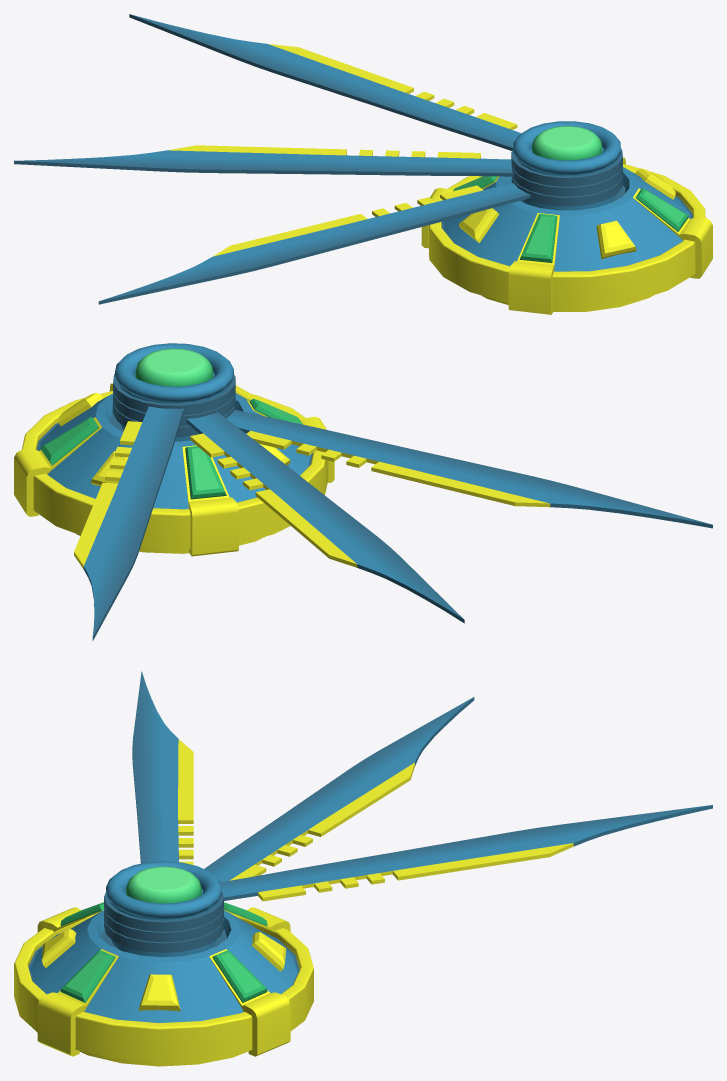
The model's file is islnd2-knife3.fbx.
3 renders of one model, top to bottom at view 1: azimuth 30°, elevation 25°; view 2: azimuth 150°, elevation 25°; view 3: azimuth 270°, elevation 25°, orthographic. The views are drawn at different scales.
Parts seen in each view (by area): view 1: islnd2-knife3, islnd2-knife3.02, islnd2-knife3.03, islnd2-knife3.01; view 2: islnd2-knife3, islnd2-knife3.01, islnd2-knife3.02, islnd2-knife3.03; view 3: islnd2-knife3, islnd2-knife3.03, islnd2-knife3.02, islnd2-knife3.01.
Part boxes in pixels (left/top/right/bottom): islnd2-knife3: left=421, top=121, right=712, bottom=314; islnd2-knife3.02: left=14, top=145, right=622, bottom=196; islnd2-knife3.03: left=129, top=14, right=622, bottom=186; islnd2-knife3.01: left=98, top=176, right=622, bottom=304; islnd2-knife3: left=14, top=343, right=334, bottom=556; islnd2-knife3.01: left=112, top=400, right=712, bottom=528; islnd2-knife3.02: left=113, top=384, right=464, bottom=623; islnd2-knife3.03: left=74, top=374, right=235, bottom=640; islnd2-knife3: left=14, top=861, right=313, bottom=1066; islnd2-knife3.03: left=104, top=805, right=712, bottom=931; islnd2-knife3.02: left=104, top=697, right=474, bottom=942; islnd2-knife3.01: left=104, top=671, right=223, bottom=952.
Size of the model in its own units: 9.75 by 1.97 by 9.17.
Materials: 1 (1 with a texture image).
